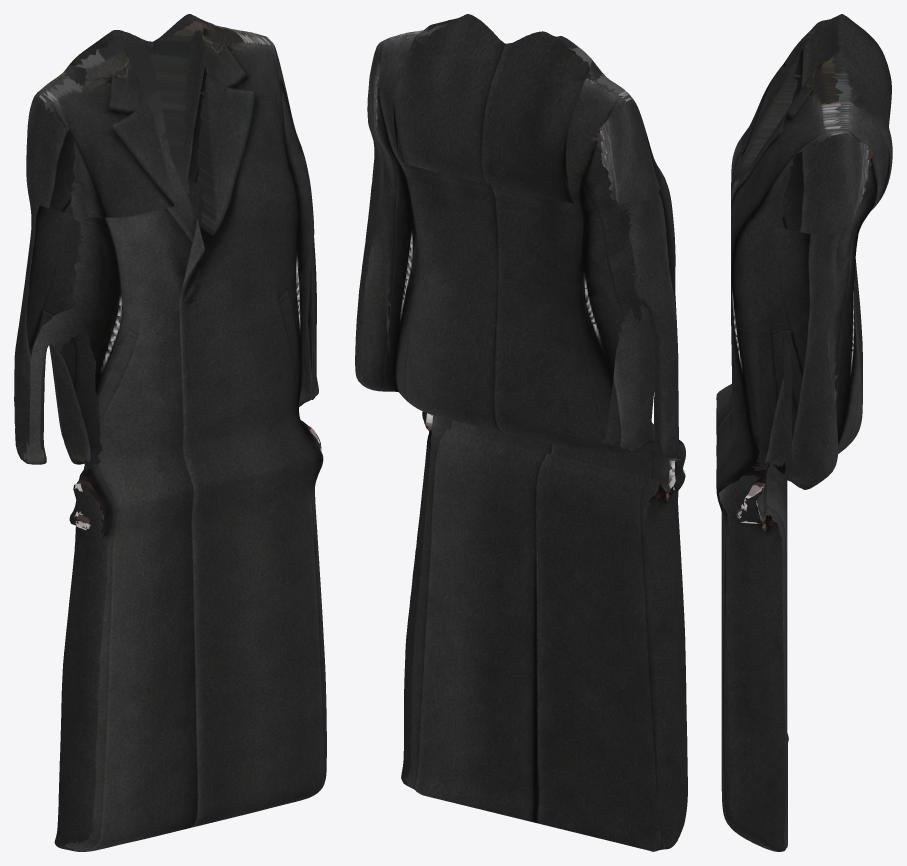
File: NF009-fit-v5.glb
The picture shows the model from 3 angles, left to right: view 1: azimuth 30°, elevation 25°; view 2: azimuth 150°, elevation 25°; view 3: azimuth 270°, elevation 25°; orthographic projection. The views are drawn at different scales.
Parts seen in each view (by area): view 1: NF009_worn_photo_fitted; view 2: NF009_worn_photo_fitted; view 3: NF009_worn_photo_fitted.
Part boxes in pixels (x1,y1,x2,y2): NF009_worn_photo_fitted: (14, 14, 326, 851); NF009_worn_photo_fitted: (355, 14, 687, 851); NF009_worn_photo_fitted: (716, 14, 892, 851).
Size of the model in its own units: 0.5329 by 1.32 by 0.2752.
3 materials, 3 textured.
